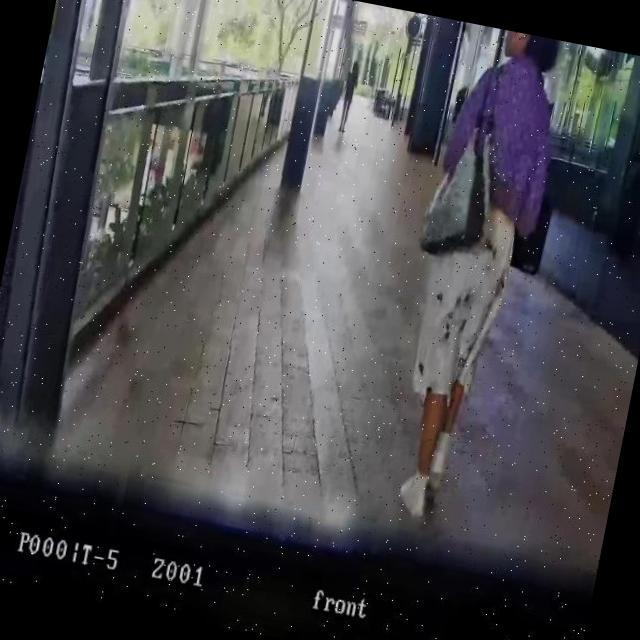person: (368, 22, 574, 533), (337, 61, 362, 133), (452, 85, 468, 124)
